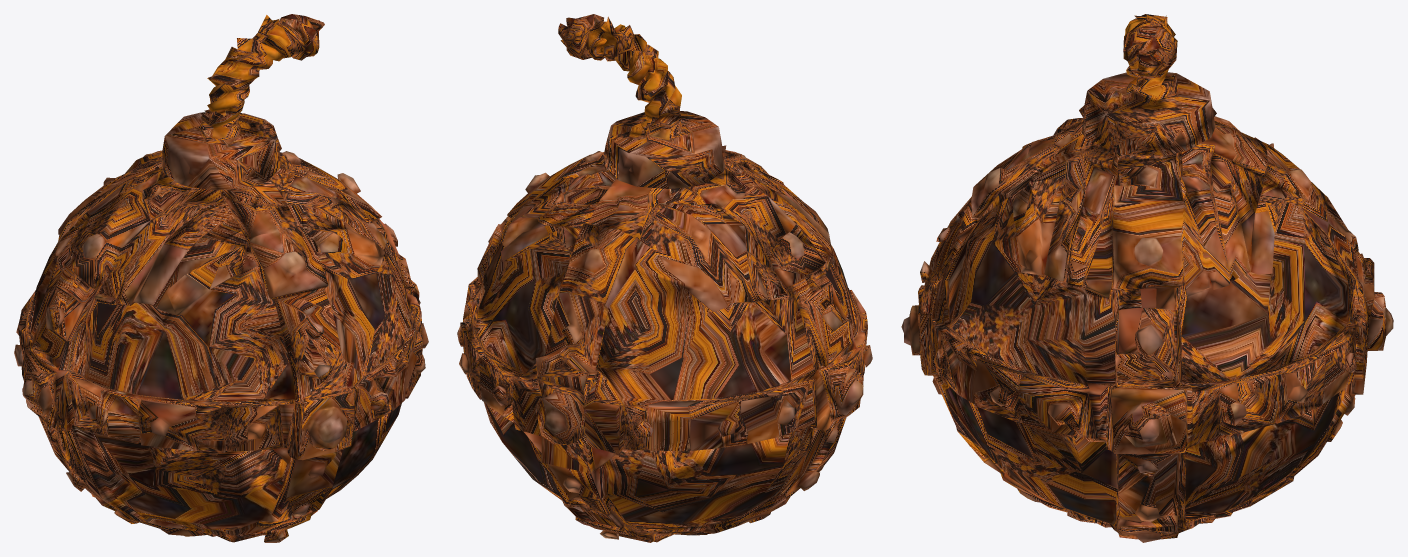
File: bomb.glb
3 views of the same model, side by side, from view 1: azimuth 30°, elevation 25°; view 2: azimuth 150°, elevation 25°; view 3: azimuth 270°, elevation 25° (orthographic). The views are drawn at different scales.
Visible parts, largest first — view 1: Mesh_0; view 2: Mesh_0; view 3: Mesh_0.
Part boxes in pixels (x1,y1,x2,y2): Mesh_0: [14, 14, 428, 542]; Mesh_0: [457, 14, 872, 542]; Mesh_0: [901, 14, 1393, 542].
Size of the model in its own units: 1.55 by 1.9 by 1.54.
1 material, 1 textured.
